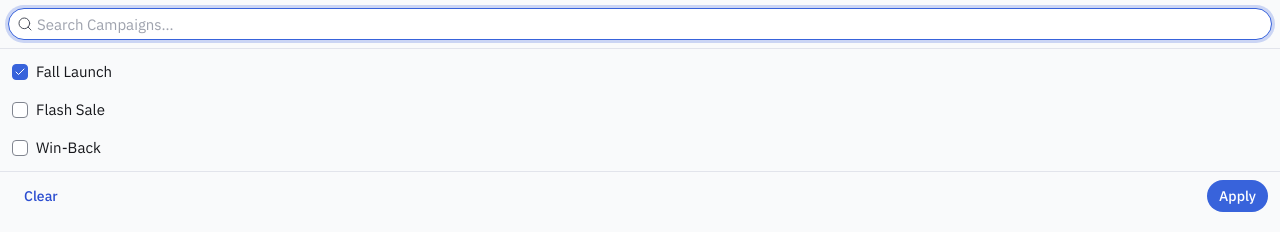
Scenario: the multi-select is a draft until Apply; Clear empties it; the search narrows the list
The width and height of the screenshot is (1280, 232).
Check: the checkbox next to "Fall Launch" is shown, box [12,64,28,80]
Click the option "Win-Back" at (56, 148), box [12,138,101,157]
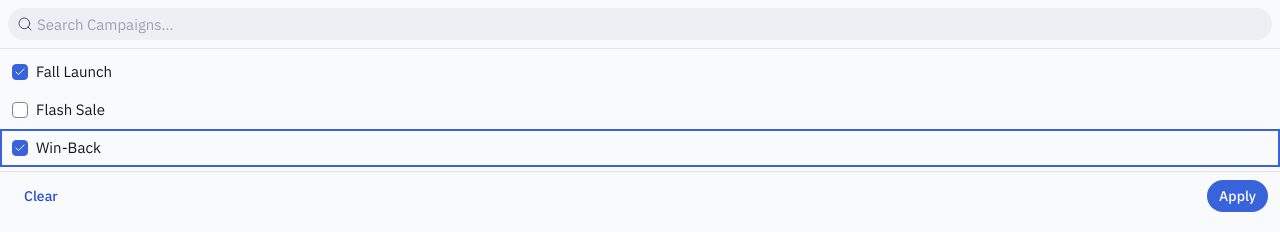
Check: the option "Win-Back" is selected, box [0,129,1279,167]
Click the button "Apply" at (1238, 196), box [1207,180,1268,212]
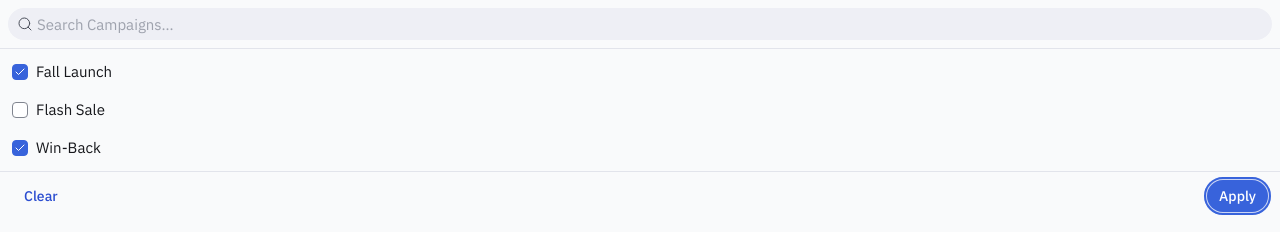
Click the button "Clear" at (41, 196), box [12,180,70,212]
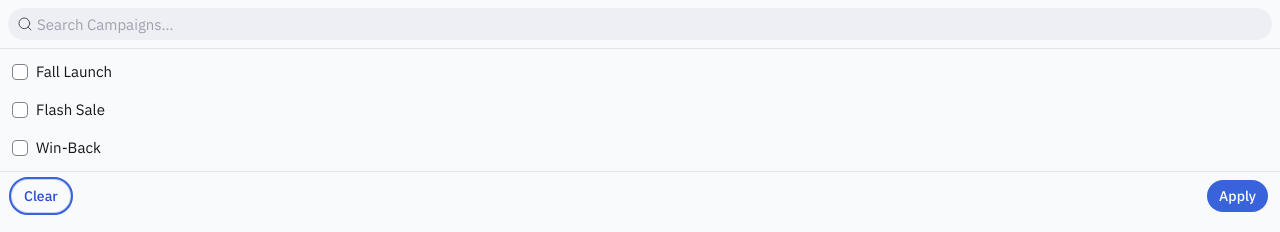
Click the button "Apply" at (1238, 196), box [1207,180,1268,212]
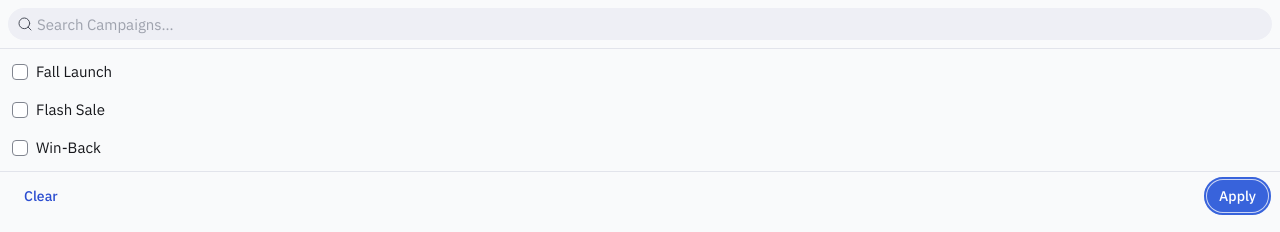
Type "fla" into the field labelled "Search Campaigns" at (652, 24), box [37,9,1267,39]
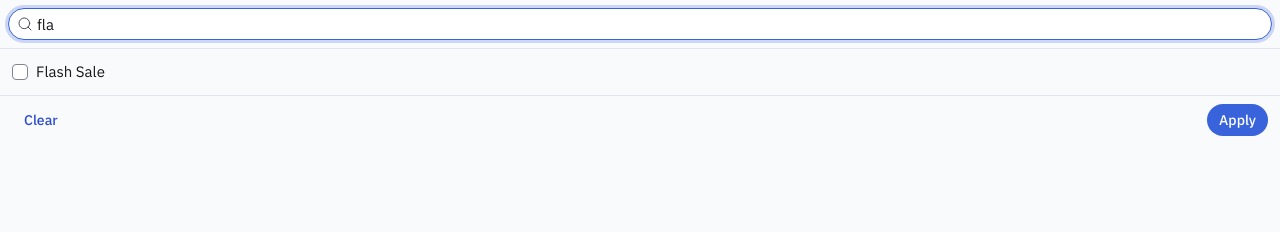
Check: the options read "Flash Sale", in this order, box [12,62,105,81]
